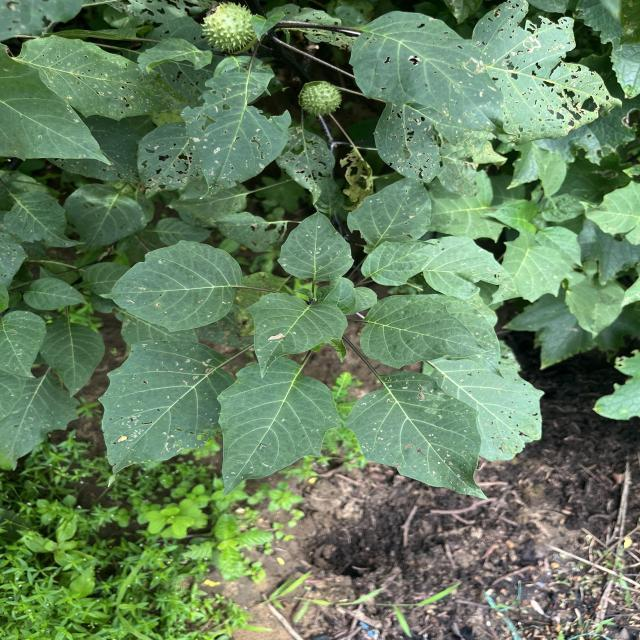Datura metal linn: (94, 337, 236, 490), (342, 369, 492, 502), (215, 356, 344, 501), (94, 238, 249, 334), (358, 292, 496, 370), (242, 290, 351, 381), (275, 202, 358, 285), (360, 237, 444, 288)
